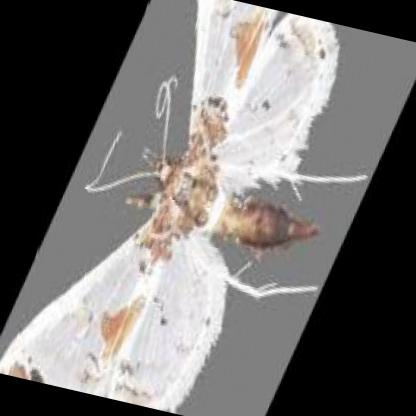leucinodes: (0, 0, 340, 408)
